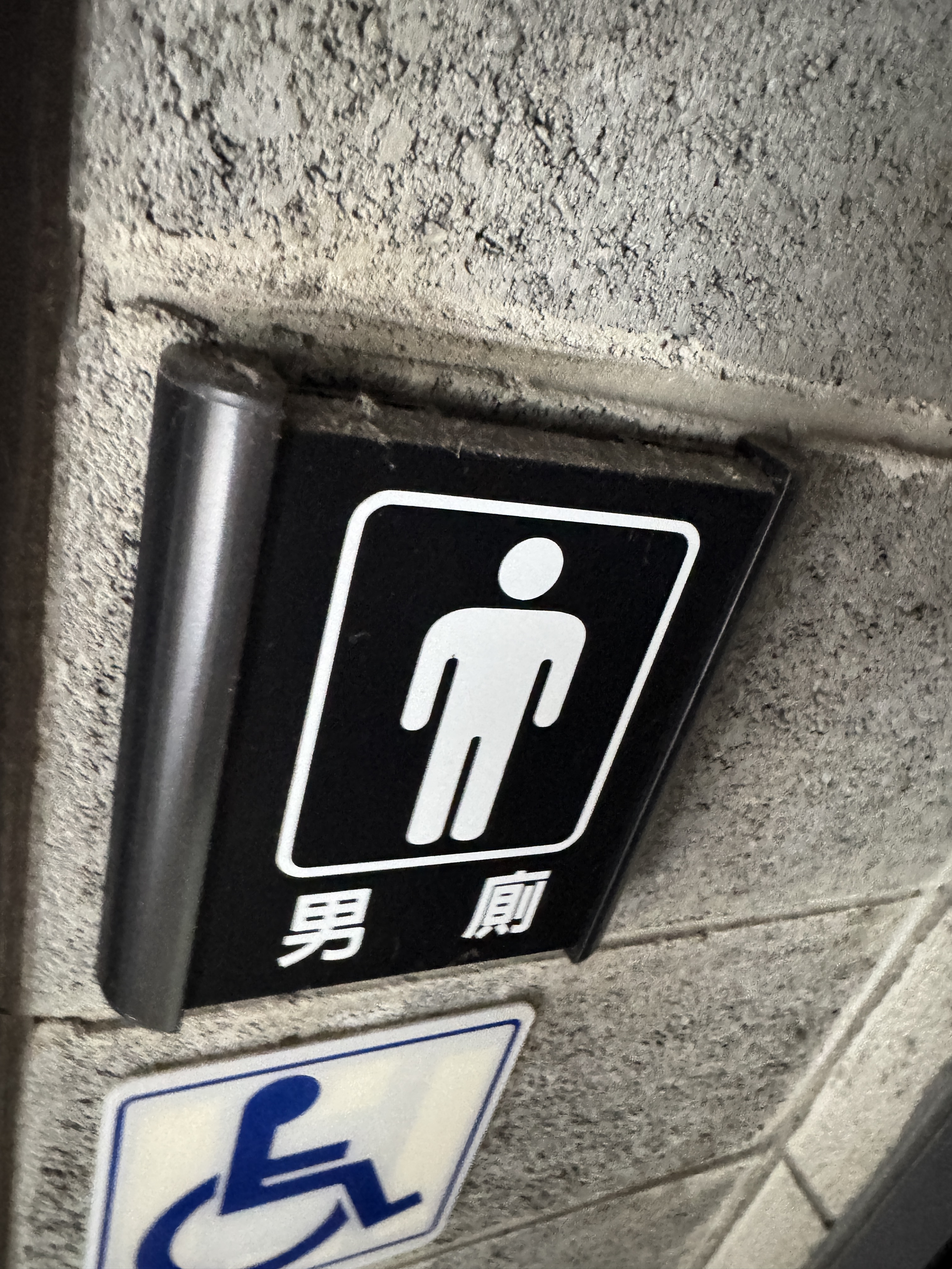toilet_sign: (78, 333, 820, 1046), (87, 335, 758, 1001)
